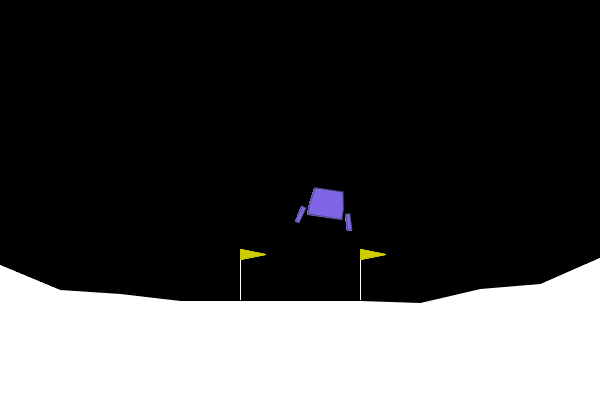lander: (293, 184, 359, 232)
